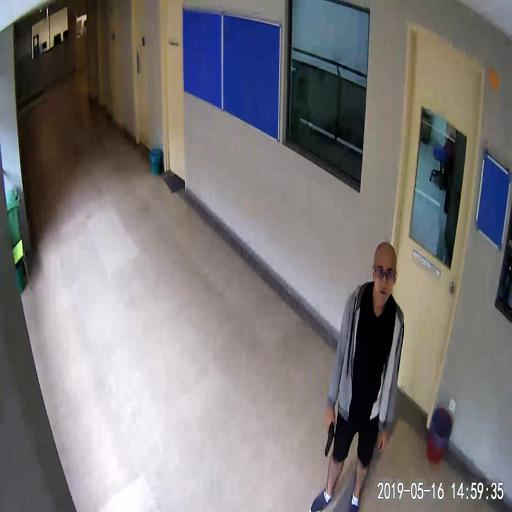pistol: (324, 418, 334, 456)
